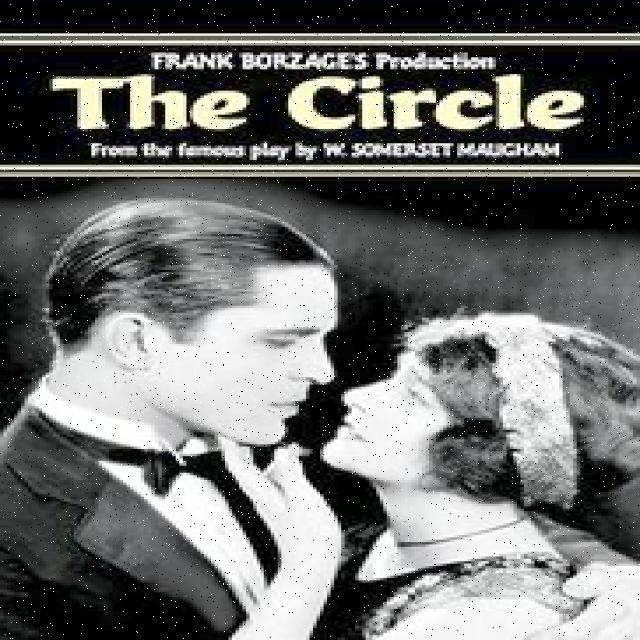movie-judul: (2, 35, 640, 176)
